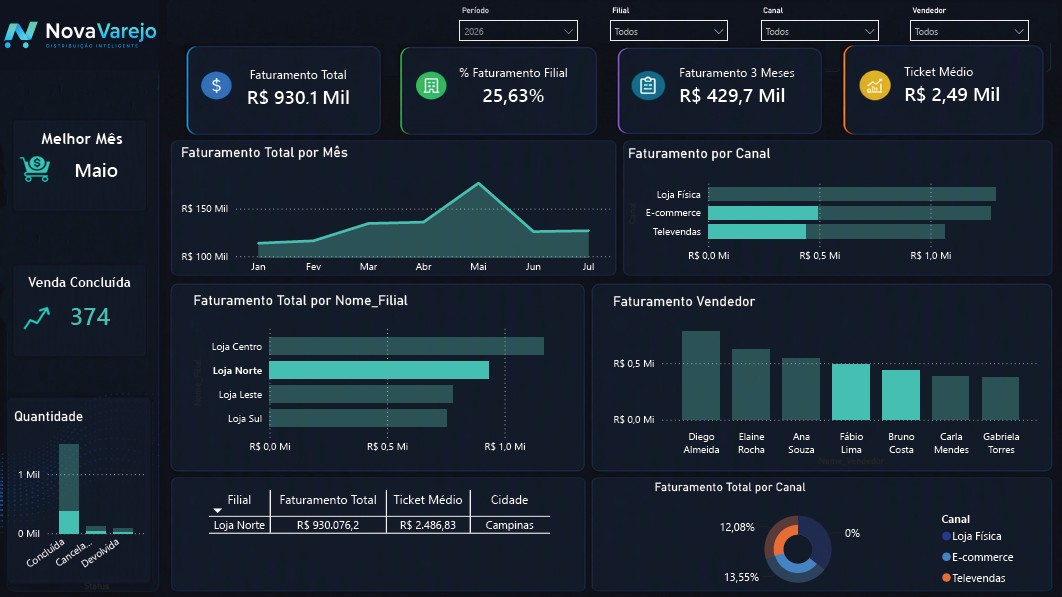

This screenshot's page, from the dashboard's own definition file:
{"tool":"powerbi","page":{"name":"Página 1","canvas":[1280,720],"ordinal":0},"visuals":[{"type":"cardVisual","fields":{"Data":["Medidas.Faturamento Total"]},"box":[226.2,23.8,222.5,97.5],"z":0},{"type":"cardVisual","fields":{"Data":["Medidas.% Faturamento Filial"]},"box":[488.8,25,217.5,97.5],"z":1},{"type":"cardVisual","fields":{"Data":["Medidas.Ticket Médio"]},"box":[1022.5,23.8,235,97.5],"z":2},{"type":"cardVisual","fields":{"Data":["Medidas.Faturamento 3 Meses Anteriores"]},"box":[747.7,29.2,238.5,100],"z":3},{"type":"lineChart","fields":{"Category":["dCalendario.Data.Variation.Hierarquia de datas.Mês"],"Y":["Medidas.Faturamento Total"]},"box":[210,147.5,523.8,156.2],"z":4},{"type":"barChart","fields":{"Category":["dFilial.Nome_Filial"],"Y":["Medidas.Faturamento Total"]},"box":[222.9,324.3,460,221.4],"z":5},{"type":"barChart","fields":{"Category":["dVendedor.Nome_Vendedor"],"Y":["Medidas.Faturamento Total"]},"box":[724.3,325.7,524.3,220],"z":6},{"type":"barChart","fields":{"Category":["dVendedor.Canal"],"Series":["dVendedor.Canal"],"Y":["Medidas.Faturamento Total"]},"box":[752.9,147.1,505.7,155.7],"z":7}]}

Visuals, with their boxes in screenshot pixels (x1, y1, x2, y2), scaled from the page's 1280x720 canvas onto the 1062x597 screenshot:
cardVisual - Medidas.Faturamento Total: detection(188, 20, 372, 101)
cardVisual - Medidas.% Faturamento Filial: detection(406, 21, 586, 102)
cardVisual - Medidas.Ticket Médio: detection(848, 20, 1043, 101)
cardVisual - Medidas.Faturamento 3 Meses Anteriores: detection(620, 24, 818, 107)
lineChart - dCalendario.Data.Variation.Hierarquia de datas.Mês x Medidas.Faturamento Total: detection(174, 122, 609, 252)
barChart - dFilial.Nome_Filial x Medidas.Faturamento Total: detection(185, 269, 567, 452)
barChart - dVendedor.Nome_Vendedor x Medidas.Faturamento Total: detection(601, 270, 1036, 452)
barChart - dVendedor.Canal x dVendedor.Canal: detection(625, 122, 1044, 251)
